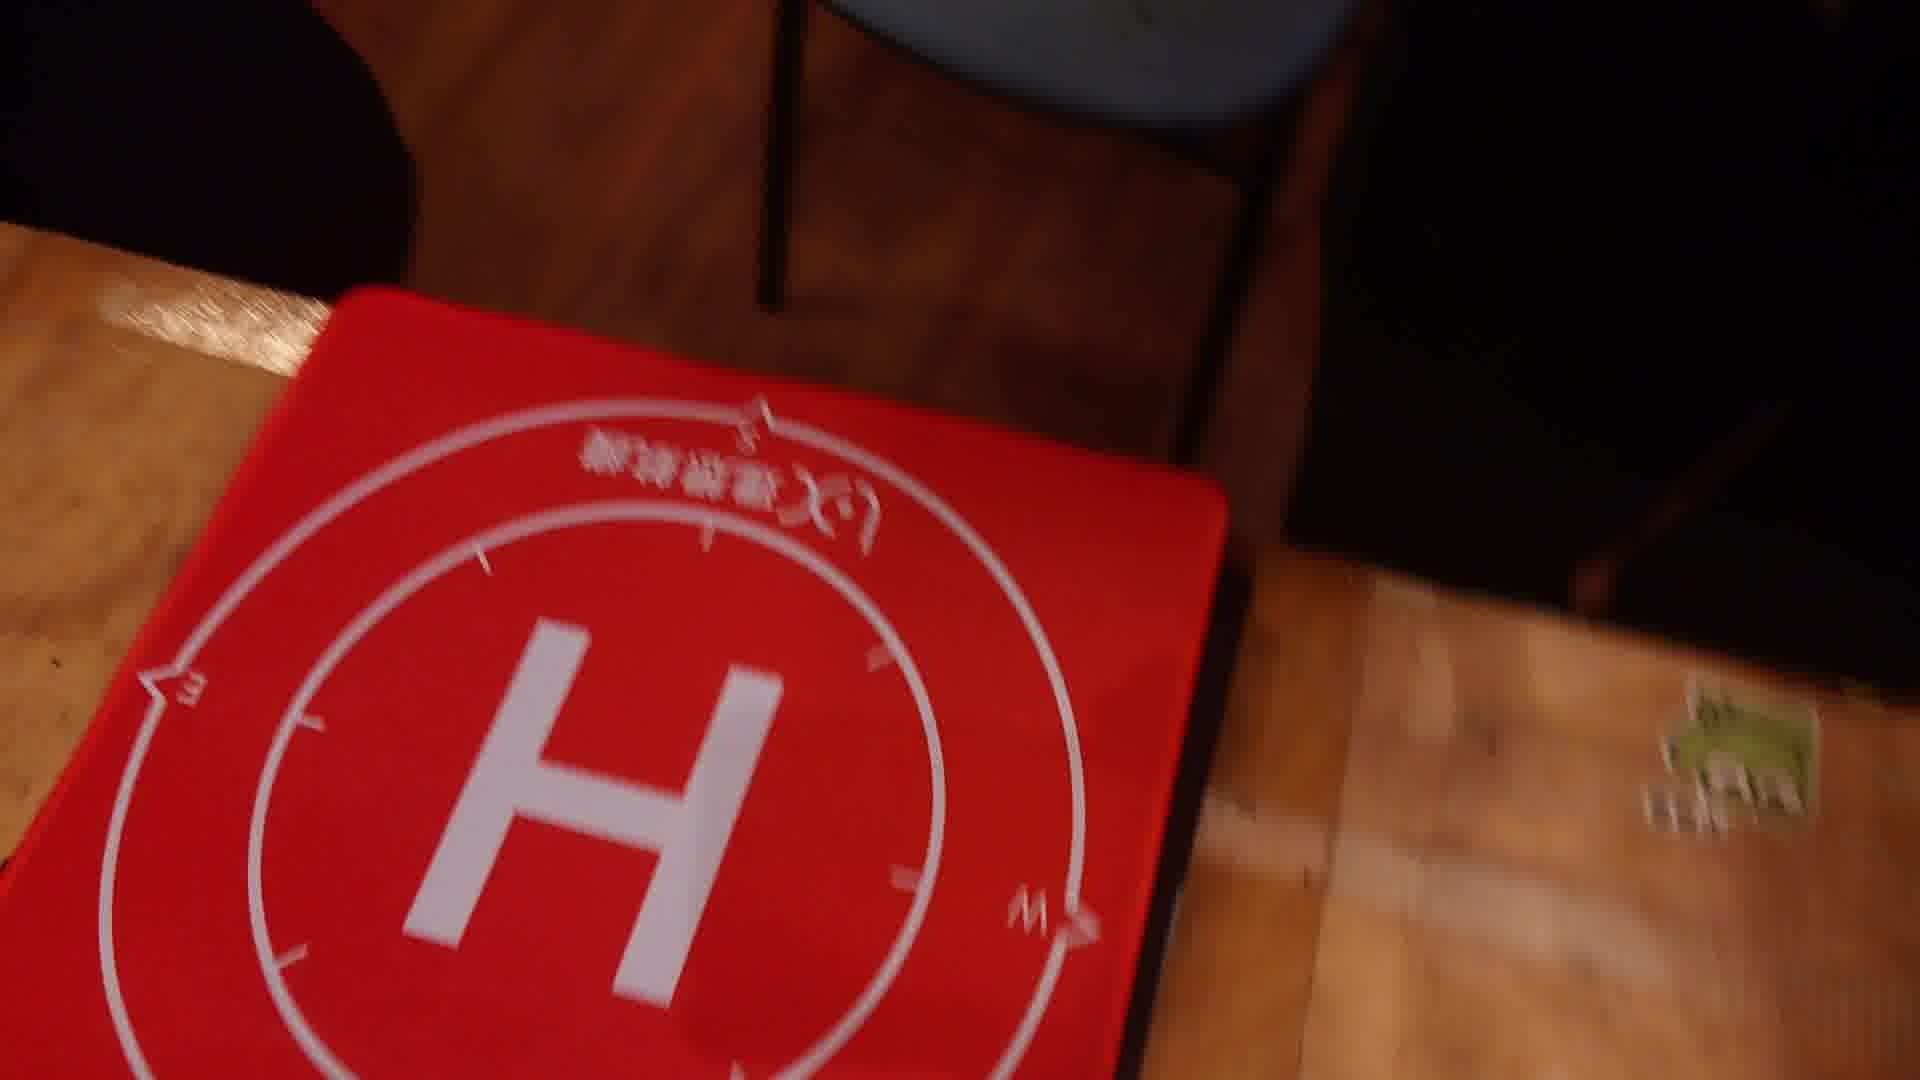H: (402, 613, 787, 1010)
